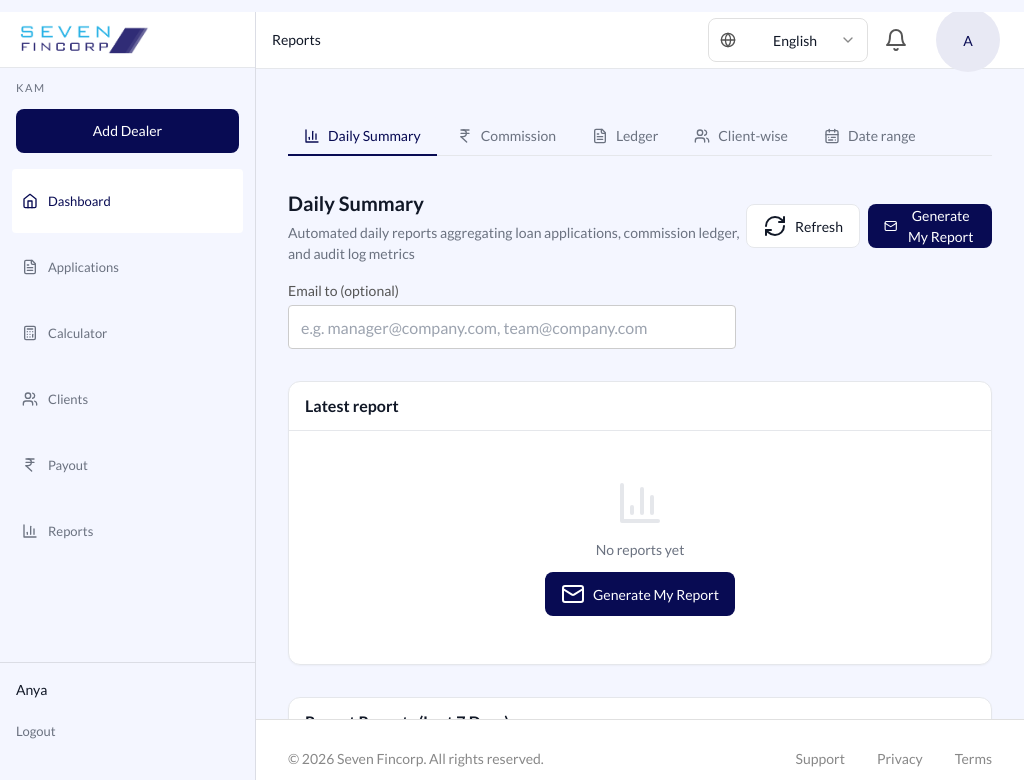
Reports page for a KAM › shows Generate My Report, a client dropdown, and the current month
Check: the 1st button "Generate My Report" is shown, box [868,204,992,248]
Check: the text "No reports yet" is shown, box [596,541,684,558]
Click the button "Ledger" at (625, 136), box [576,117,674,156]
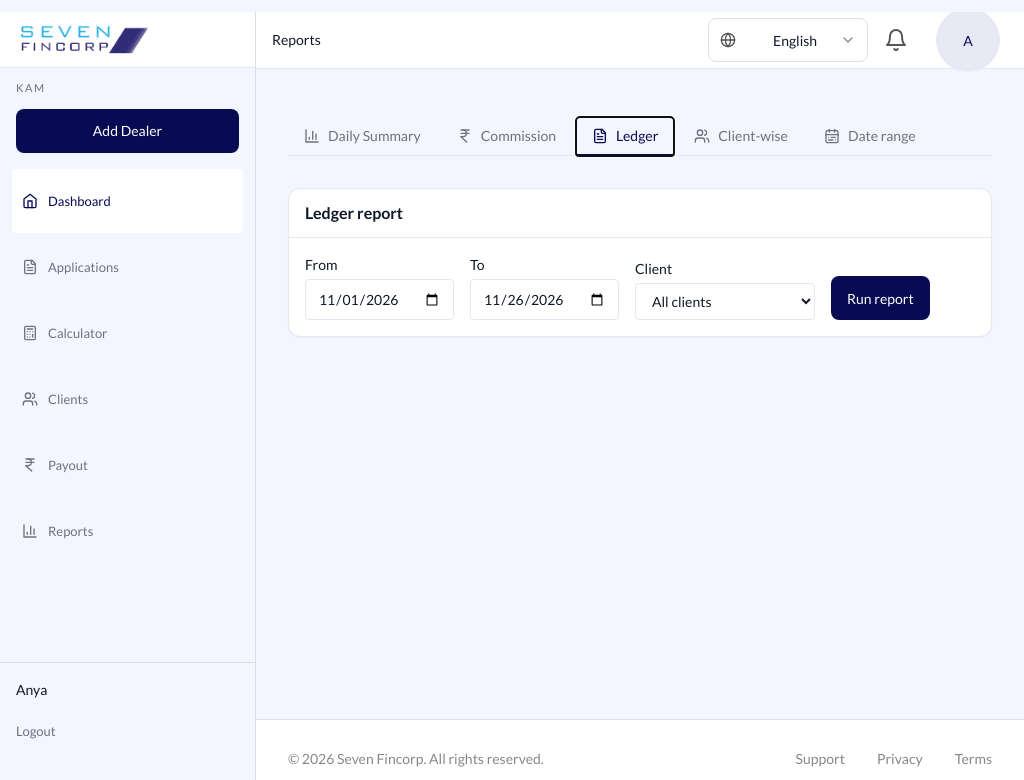
Check: the date field labelled "From" holds "2026-11-01", box [305,279,454,320]
Check: the dropdown labelled "Client" is shown, box [635,283,815,320]
